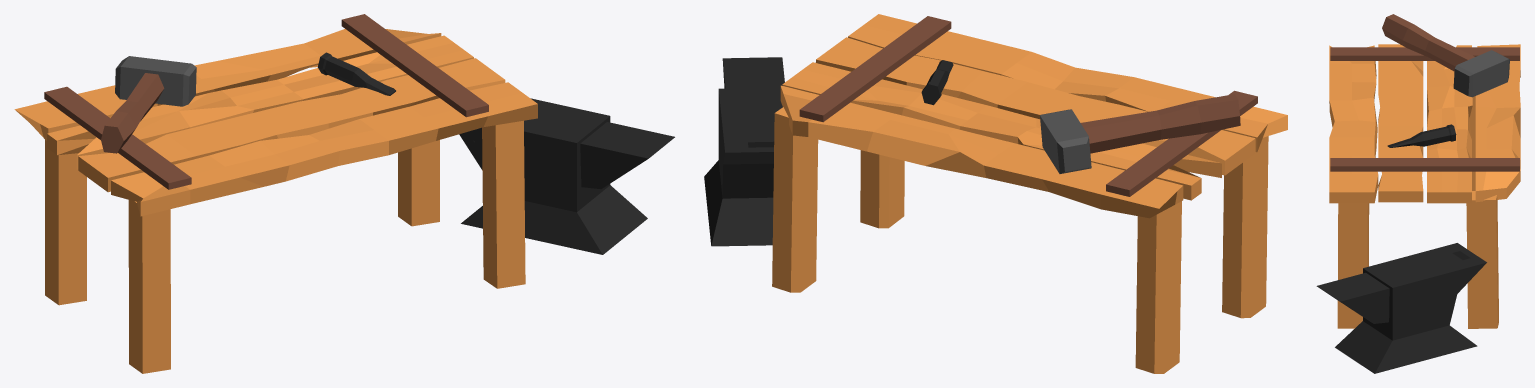
The model's file is crafting_table.glb.
The picture shows the model from 3 angles, left to right: view 1: azimuth 30°, elevation 25°; view 2: azimuth 150°, elevation 25°; view 3: azimuth 270°, elevation 25°; orthographic projection. The views are drawn at different scales.
Visible parts, largest first — view 1: Cube_0, Cube.002_2, Plane_1, Cube.003_3, Cube.004_5, Cube.001_6, Cylinder_4; view 2: Cube_0, Cube.002_2, Plane_1, Cube.001_6, Cube.004_5, Cube.003_3, Cylinder_4; view 3: Cube_0, Cube.002_2, Plane_1, Cube.003_3, Cube.001_6, Cube.004_5, Cylinder_4.
Boxes of the visible parts, x1=… form: Cube_0: x1=14, y1=29, x2=537, y2=373; Cube.002_2: x1=459, y1=98, x2=647, y2=254; Plane_1: x1=44, y1=14, x2=488, y2=189; Cube.003_3: x1=580, y1=122, x2=674, y2=189; Cube.004_5: x1=115, y1=56, x2=196, y2=106; Cube.001_6: x1=101, y1=73, x2=164, y2=153; Cylinder_4: x1=317, y1=52, x2=395, y2=95; Cube_0: x1=772, y1=14, x2=1287, y2=373; Cube.002_2: x1=704, y1=87, x2=782, y2=246; Plane_1: x1=799, y1=16, x2=1257, y2=196; Cube.001_6: x1=1080, y1=94, x2=1240, y2=153; Cube.004_5: x1=1040, y1=109, x2=1091, y2=173; Cube.003_3: x1=722, y1=57, x2=784, y2=88; Cylinder_4: x1=921, y1=60, x2=953, y2=105; Cube_0: x1=1329, y1=44, x2=1520, y2=328; Cube.002_2: x1=1335, y1=243, x2=1486, y2=373; Plane_1: x1=1330, y1=47, x2=1519, y2=171; Cube.003_3: x1=1316, y1=272, x2=1389, y2=323; Cube.001_6: x1=1382, y1=14, x2=1474, y2=71; Cube.004_5: x1=1453, y1=50, x2=1509, y2=97; Cylinder_4: x1=1387, y1=124, x2=1456, y2=147.
Bounding box in the file's own units: 7.84 × 3.13 × 3.36.
